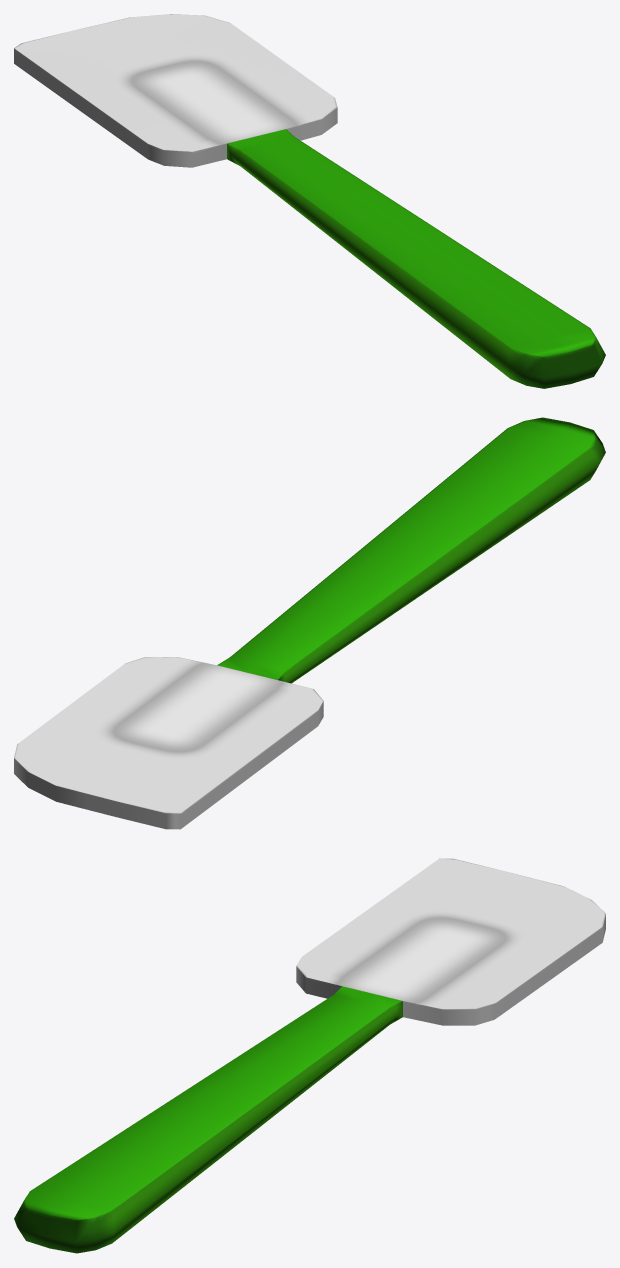
The model's file is Spatula_01.fbx.
3 views of the same model, one above another, from view 1: azimuth 30°, elevation 25°; view 2: azimuth 150°, elevation 25°; view 3: azimuth 330°, elevation 25° (orthographic). The views are drawn at different scales.
Parts seen in each view (by area): view 1: Spatula_01; view 2: Spatula_01; view 3: Spatula_01.
Part boxes in pixels (x1,y1,x2,y2): Spatula_01: (14,14,605,388); Spatula_01: (14,417,605,829); Spatula_01: (14,858,605,1253).
Bounding box in the file's own units: 22.81 × 3.72 × 100.
